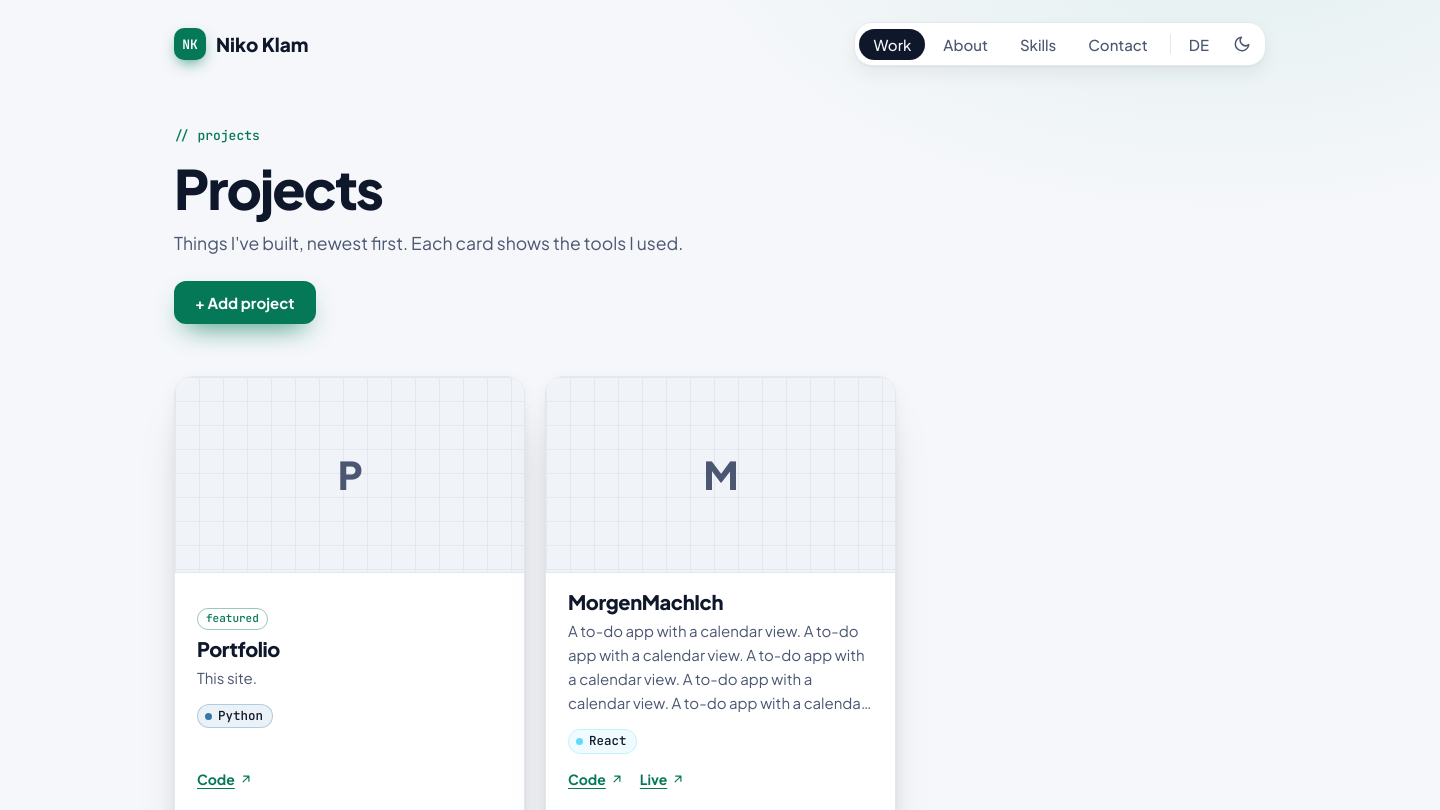
project modal › cancelling the delete keeps the project
Step 1. Click the link "MorgenMachIch" → (645, 602), box 568,591 -> 723,613
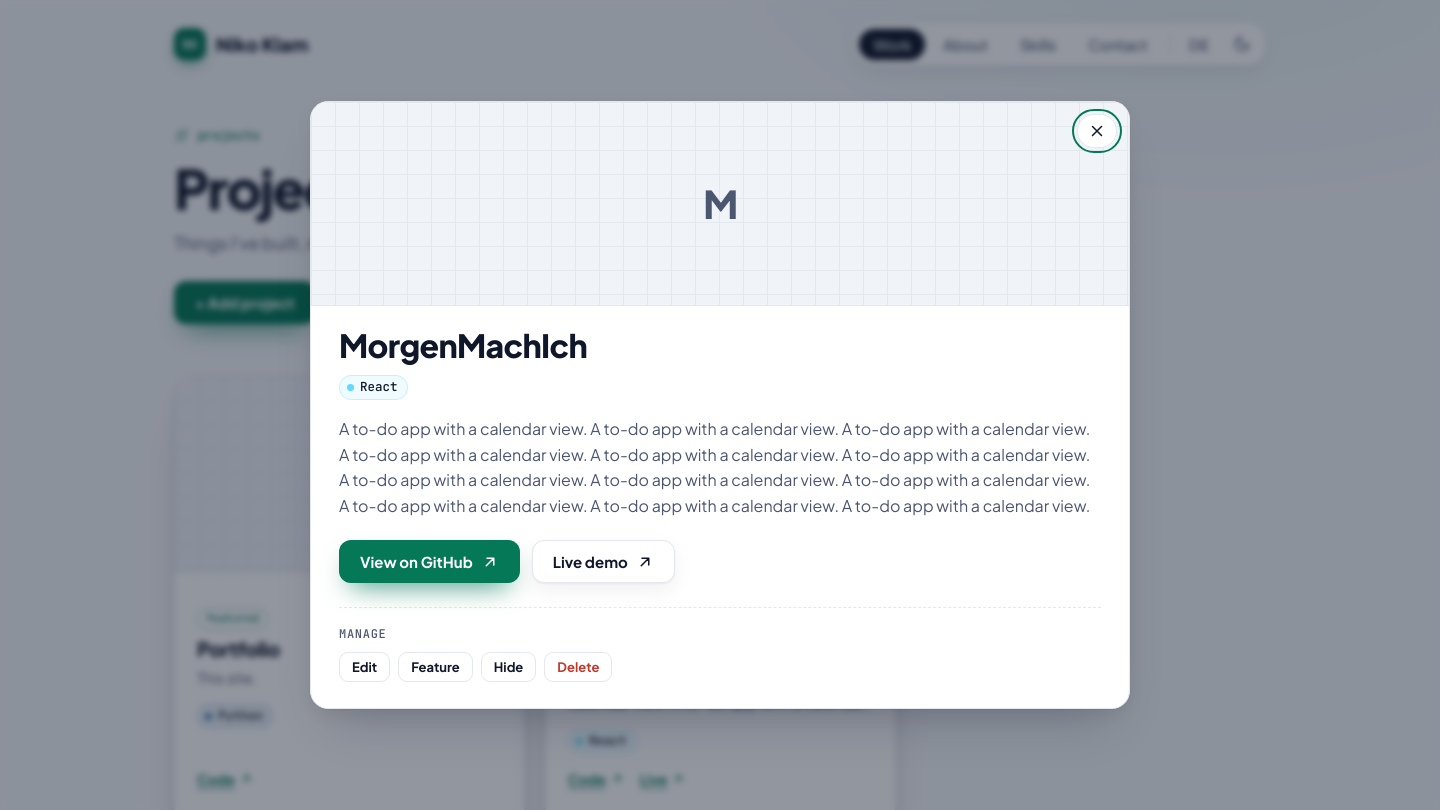
Step 2. Click the button "Delete" → (578, 667), box 544,652 -> 612,682
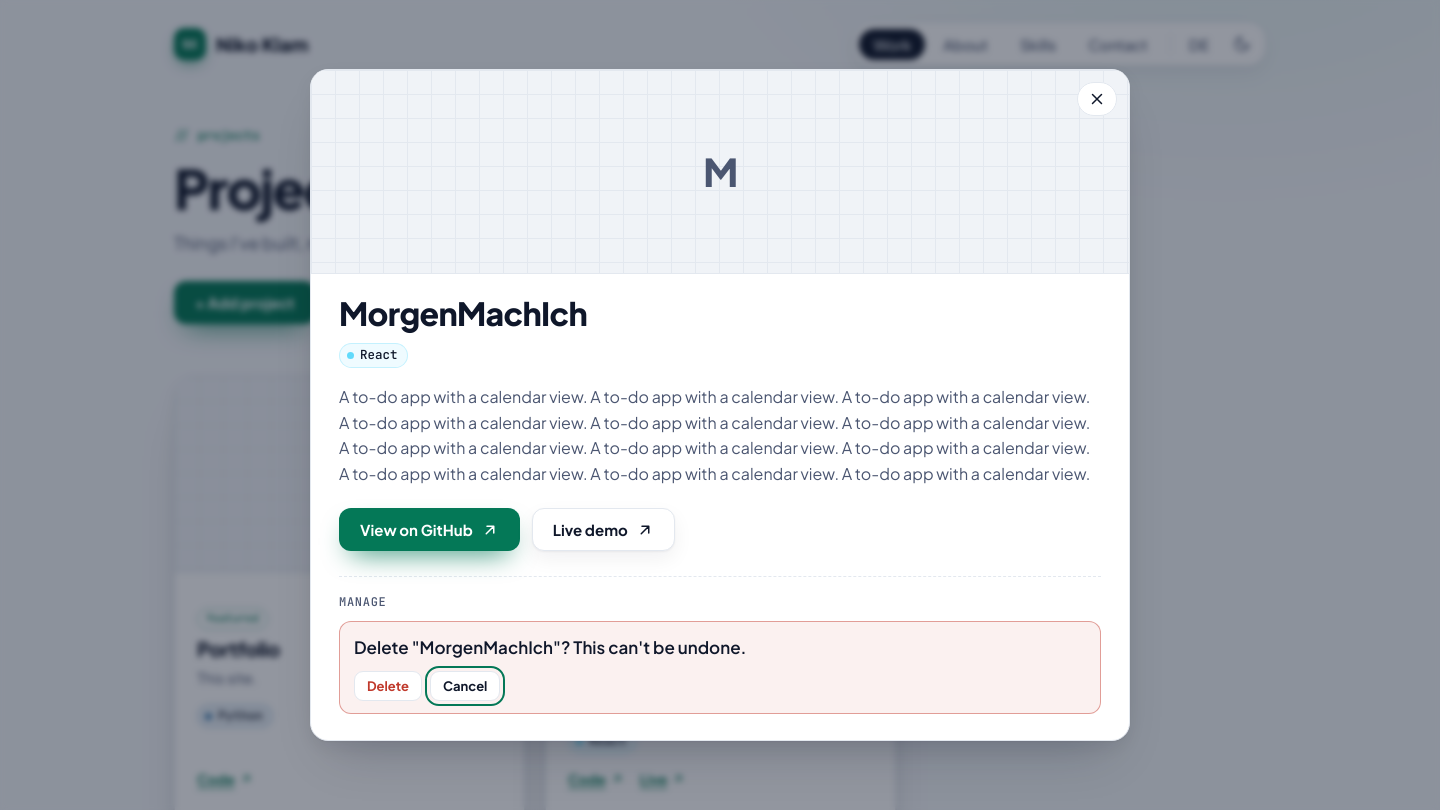
Step 3. Click the button "Cancel" → (465, 686), box 430,671 -> 500,701
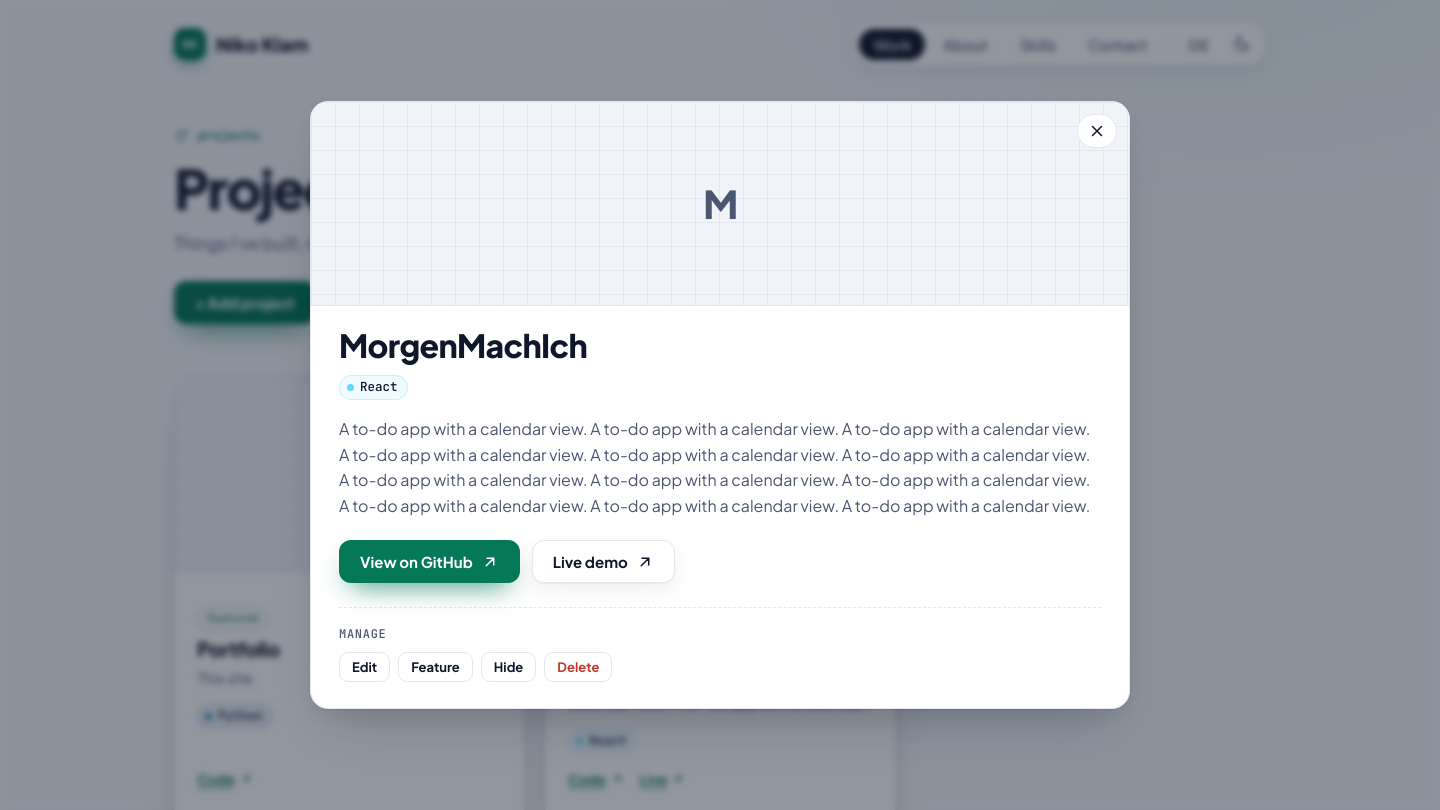
Check: the dialog "Delete \"MorgenMachIch\"? This can't be undone. Delete Cancel" is gone
